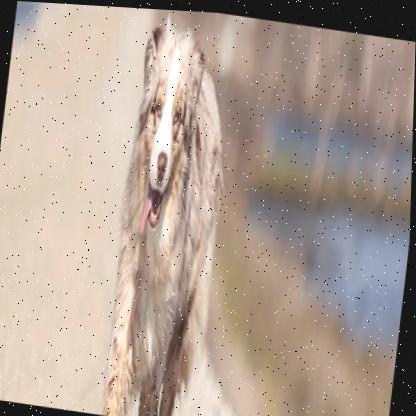dog: (83, 12, 259, 416)
